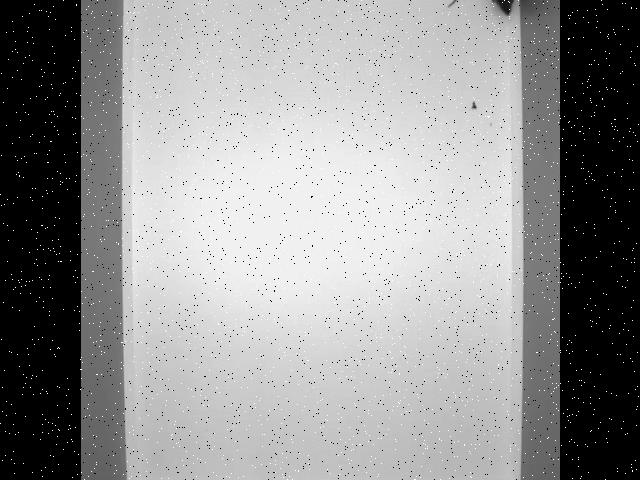Tikus: (438, 0, 520, 34)
